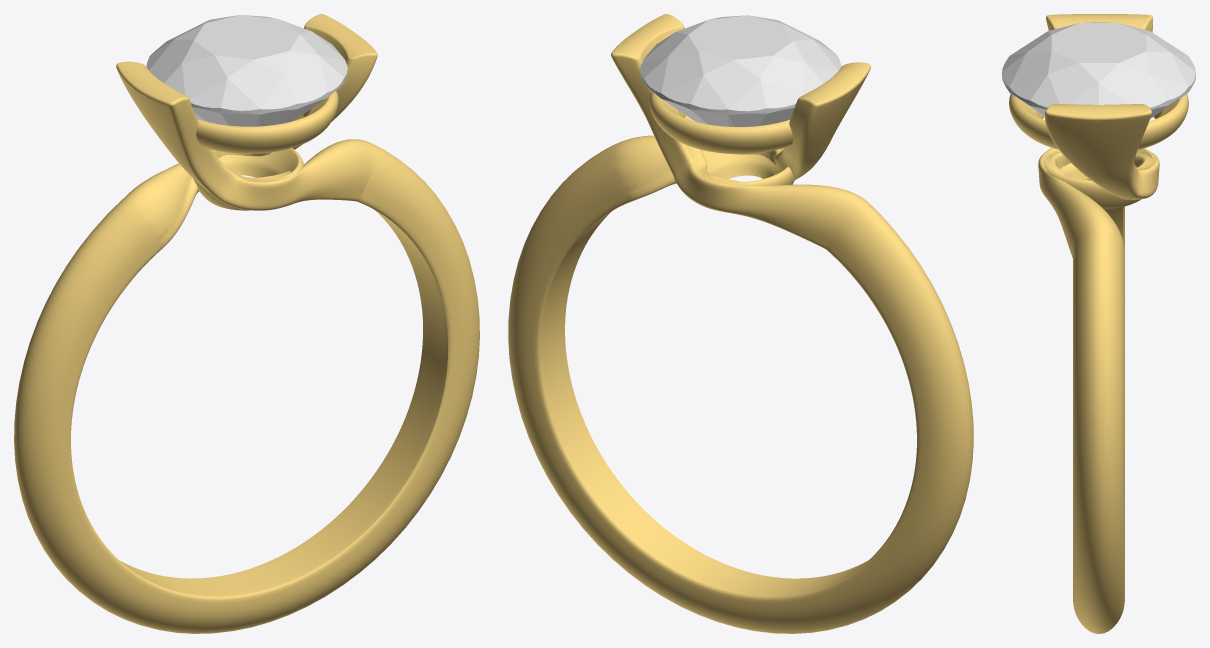
The model's file is New_Twist_blender.glb.
3 renders of one model, left to right at view 1: azimuth 30°, elevation 25°; view 2: azimuth 150°, elevation 25°; view 3: azimuth 270°, elevation 25°, orthographic. The views are drawn at different scales.
Parts seen in each view (by area): view 1: new twist YG for 3d model, new twist dia for 3d model; view 2: new twist YG for 3d model, new twist dia for 3d model; view 3: new twist YG for 3d model, new twist dia for 3d model.
Part boxes in pixels (x1=…): new twist YG for 3d model: x1=14, y1=14, x2=479, y2=633; new twist dia for 3d model: x1=146, y1=15, x2=347, y2=126; new twist YG for 3d model: x1=508, y1=14, x2=973, y2=633; new twist dia for 3d model: x1=640, y1=15, x2=841, y2=126; new twist YG for 3d model: x1=1009, y1=14, x2=1188, y2=633; new twist dia for 3d model: x1=1002, y1=22, x2=1195, y2=118.
Bounding box in the file's own units: 19.69 × 24.04 × 7.45.
